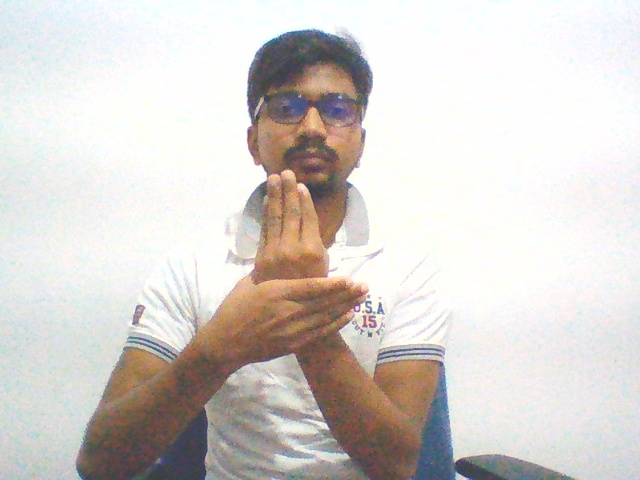tree: (195, 160, 375, 386)
